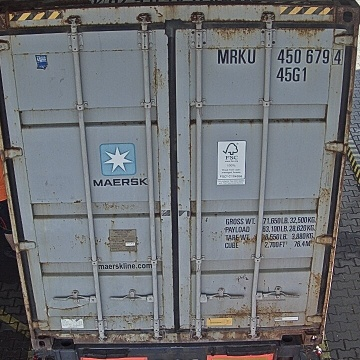serial_id: (217, 49, 343, 63)
